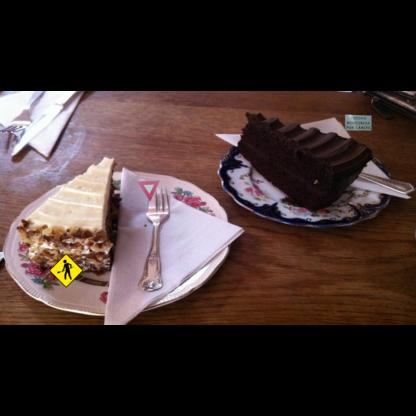A-24: (49, 253, 83, 288)
I-E: (345, 115, 371, 130)
